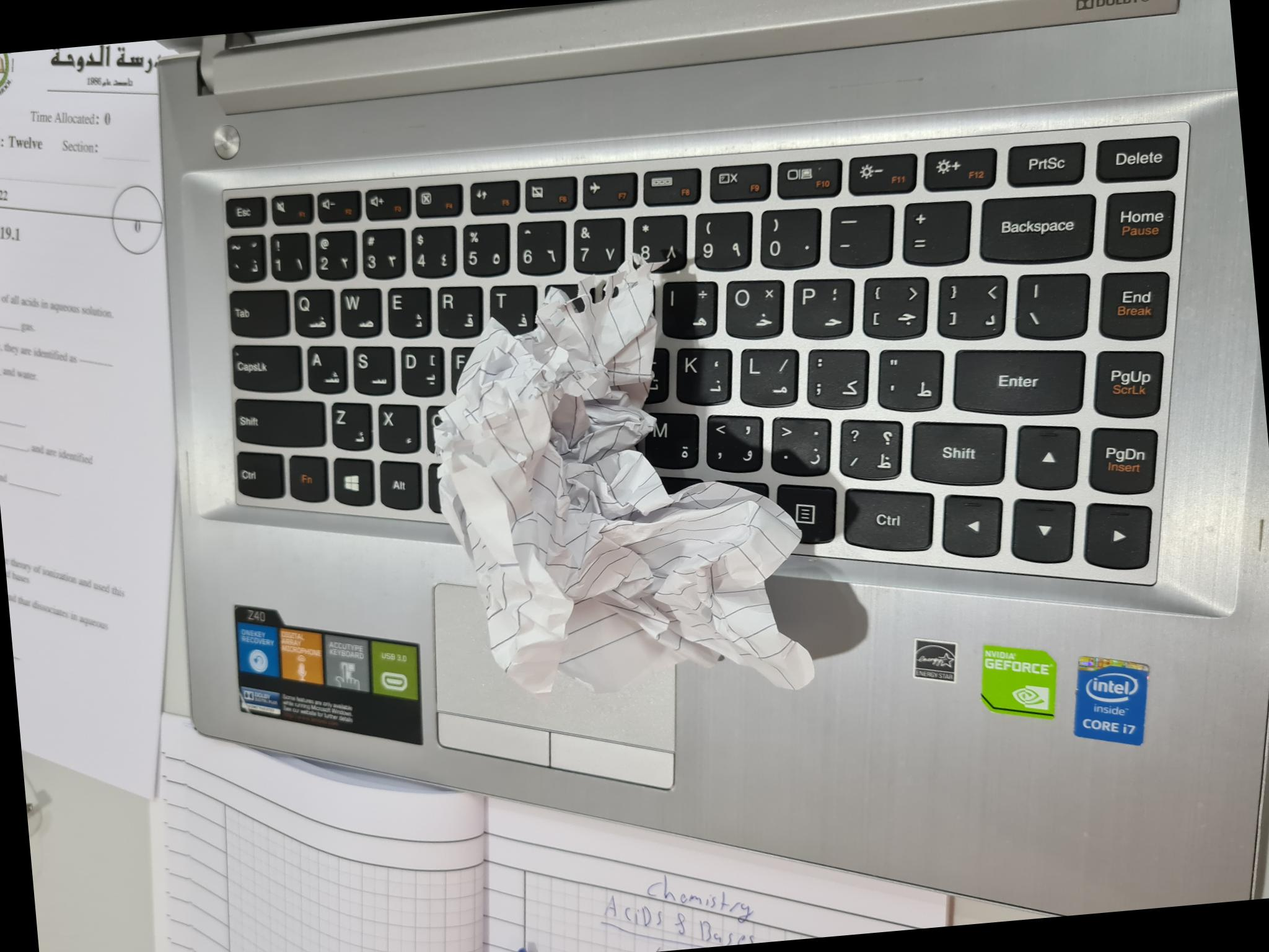Kertas: (287, 440, 722, 844)
